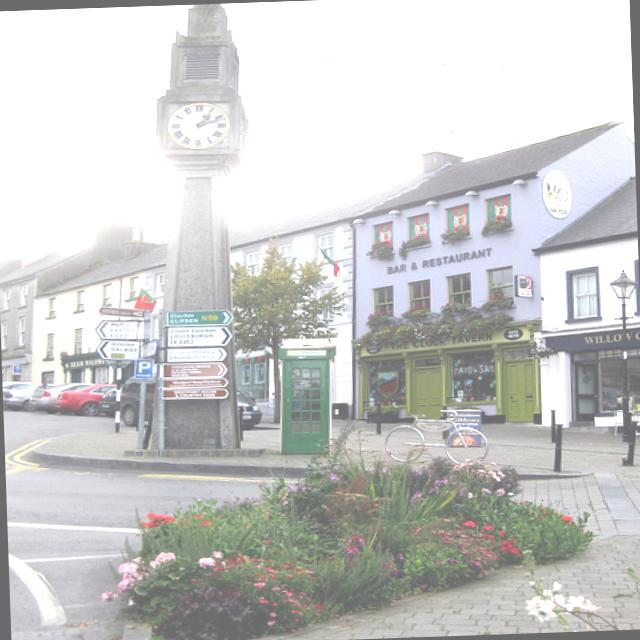Vehicle: (56, 382, 118, 417), (31, 382, 95, 415), (120, 374, 158, 426), (8, 381, 64, 411), (235, 388, 262, 430), (2, 380, 35, 411), (2, 384, 30, 410), (102, 391, 115, 418)
